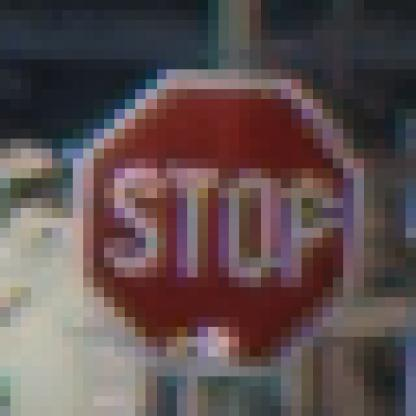stop: (75, 61, 360, 376)
